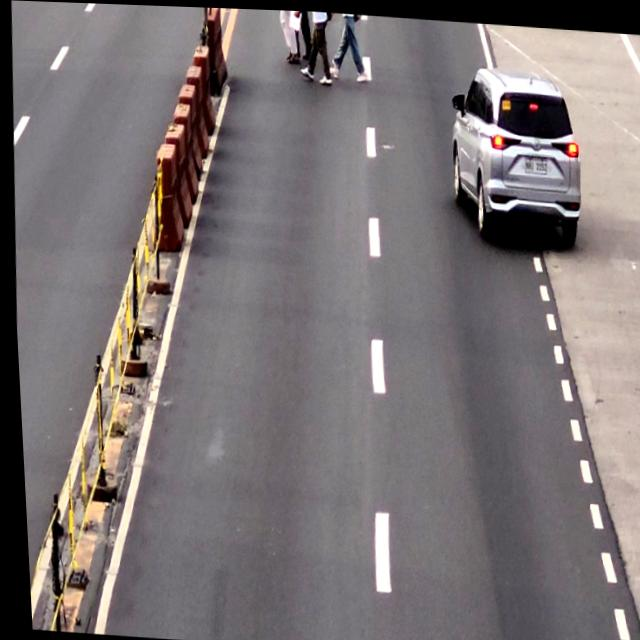Car: (444, 59, 583, 246)
License-Plate: (521, 153, 547, 171)
